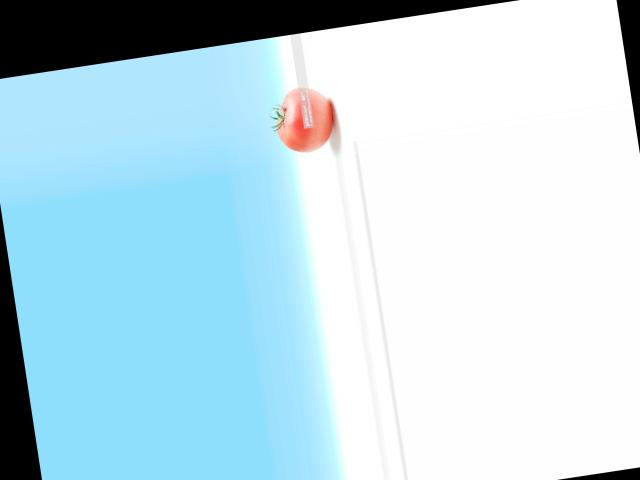tomato: (271, 82, 336, 155)
